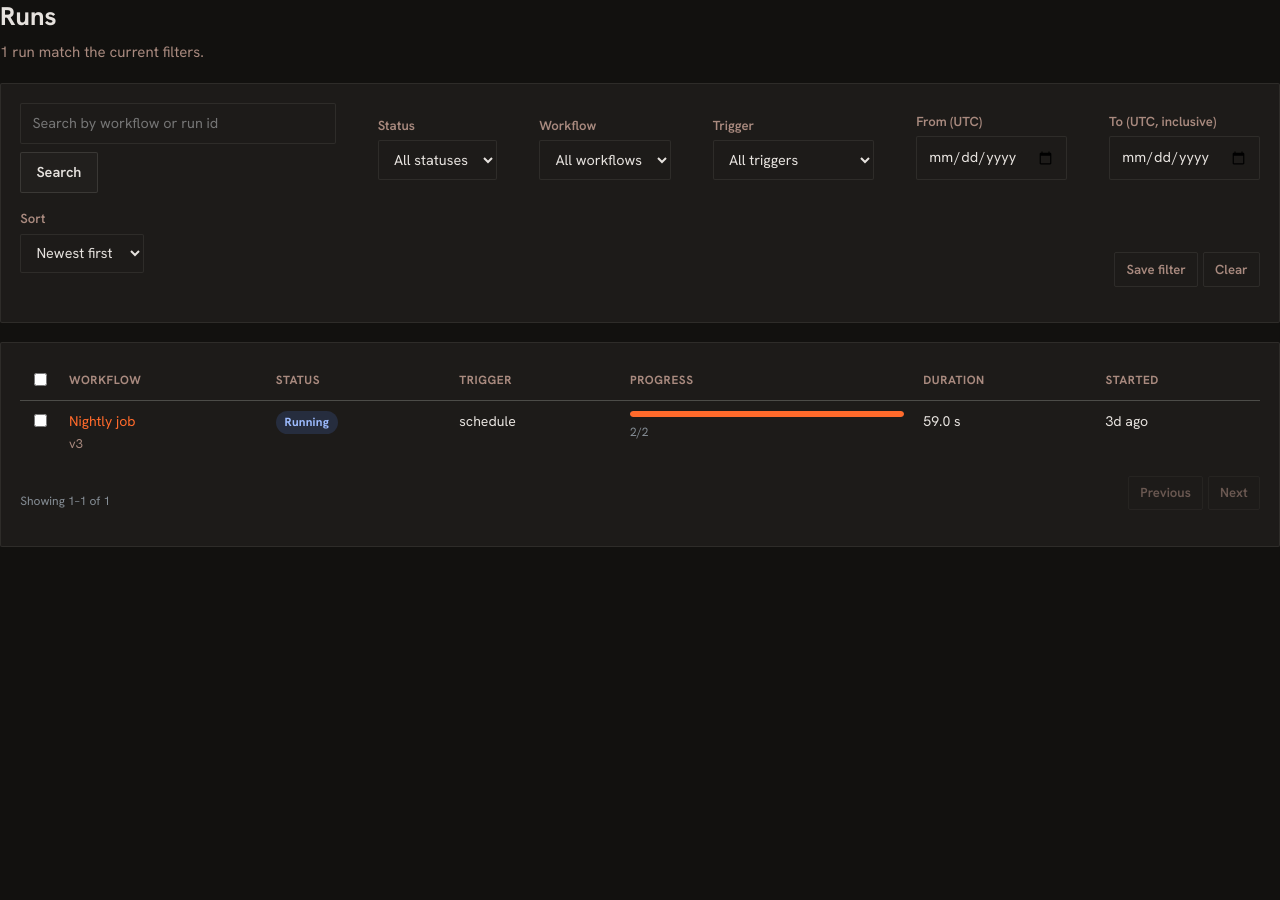
Test: RunsPage › cancels a selected run after confirmation and reports the outcome
Step 1. Click the checkbox named "Select run run-1" → {"x": 40, "y": 420}, box 34,414 -> 47,427
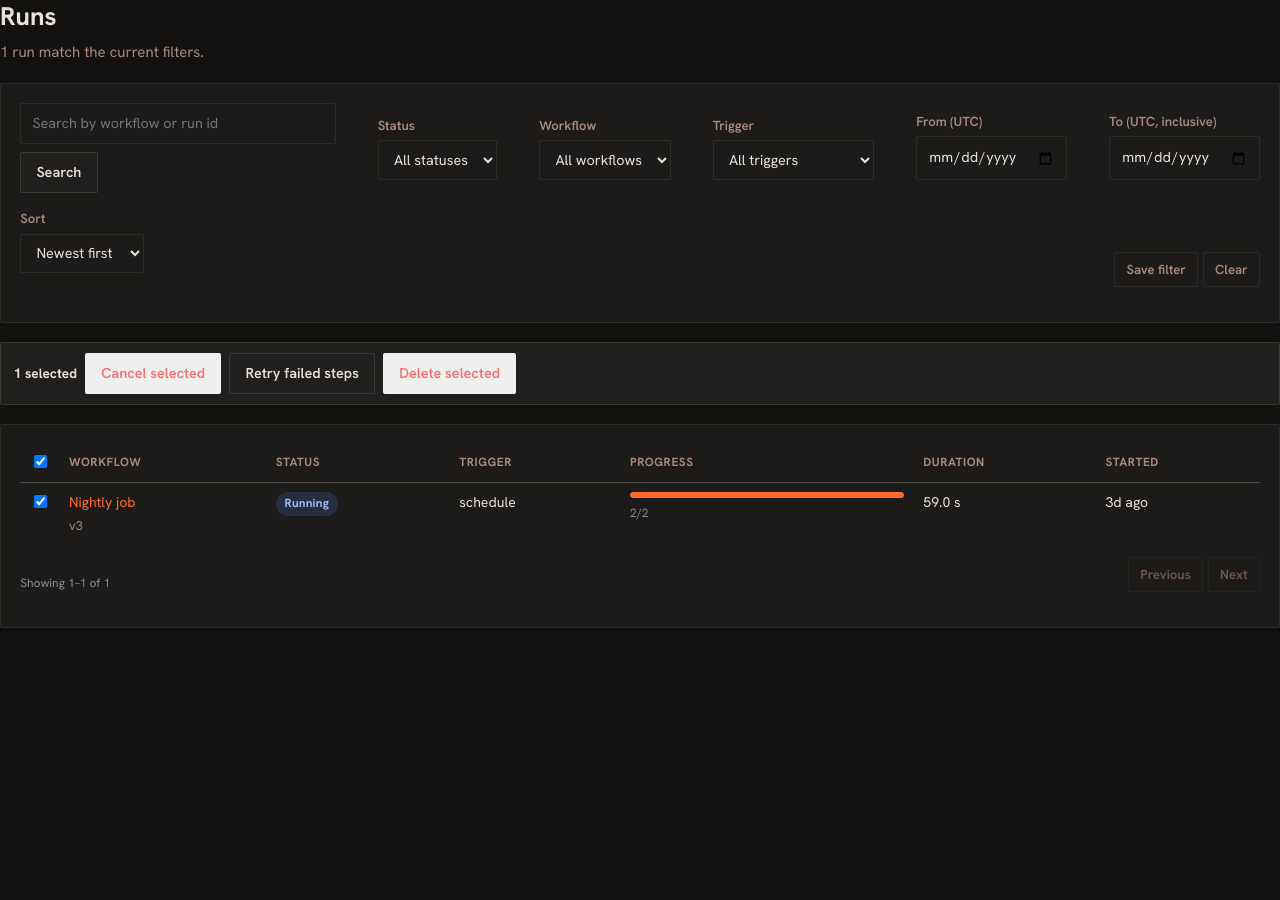
Step 2. Click the button "Cancel selected" → {"x": 153, "y": 373}, box 85,353 -> 221,394
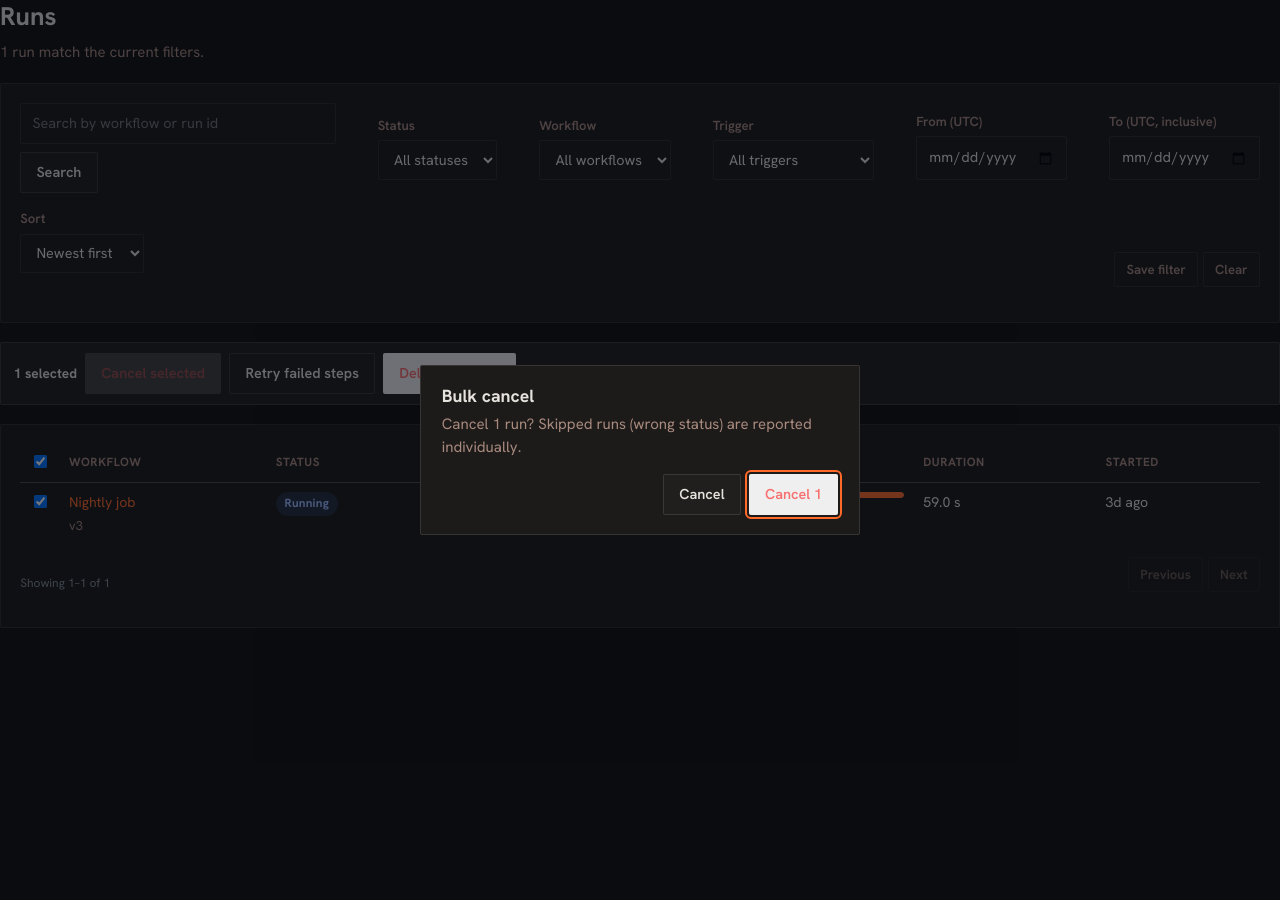
Step 3. Click the button "Cancel 1" → {"x": 794, "y": 495}, box 749,474 -> 838,515
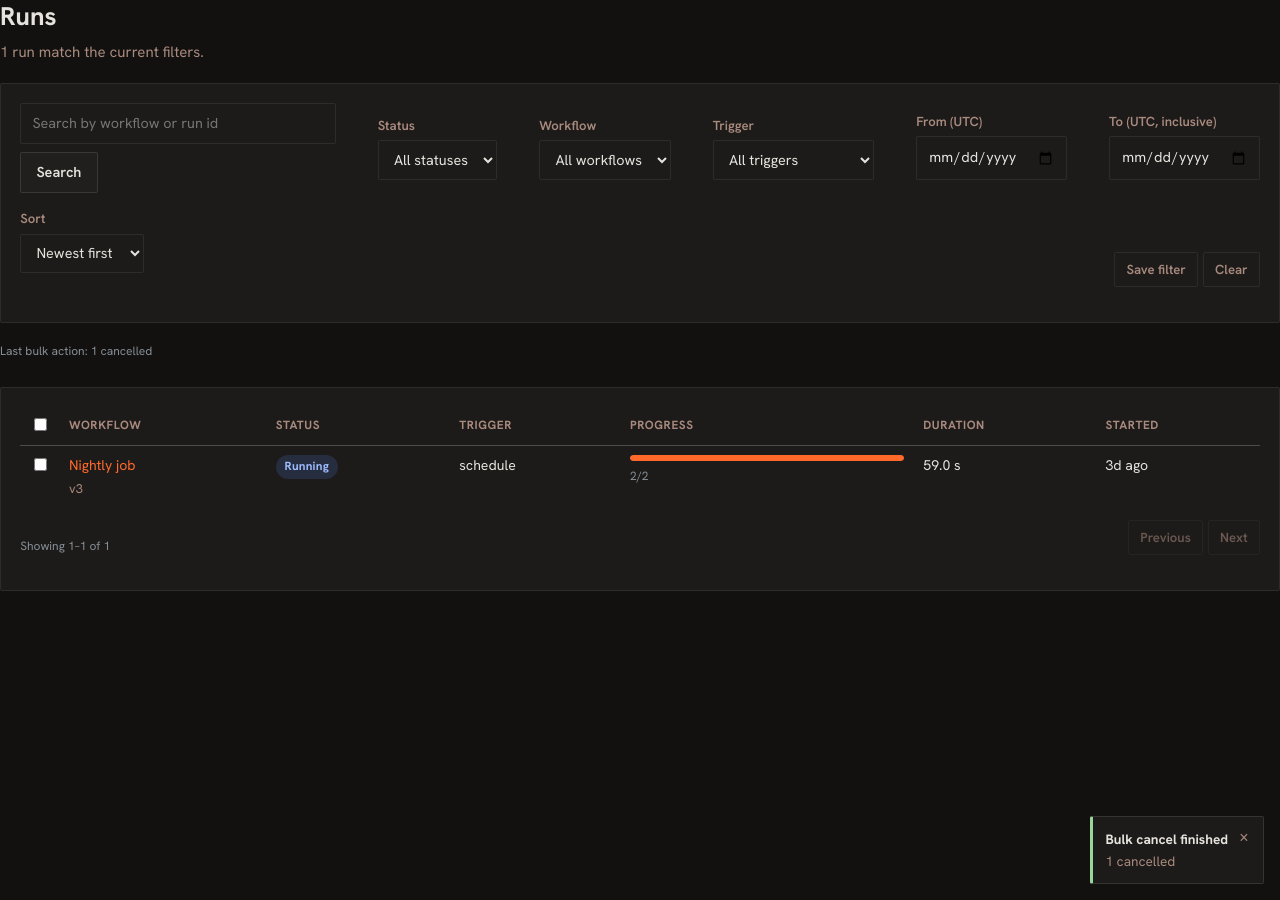
Check: the text "Last bulk action: 1 cancelled" is shown, box 0,343 -> 152,359
